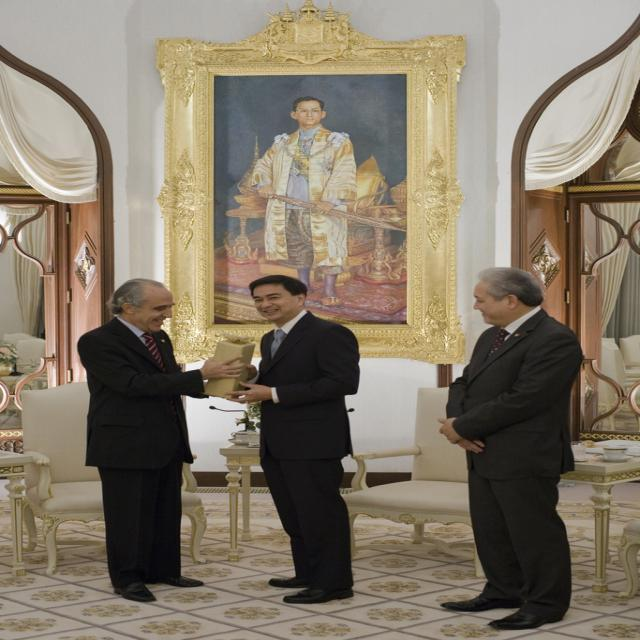Chair: (21, 380, 211, 564), (342, 390, 487, 578), (338, 154, 390, 266), (620, 516, 640, 600)
